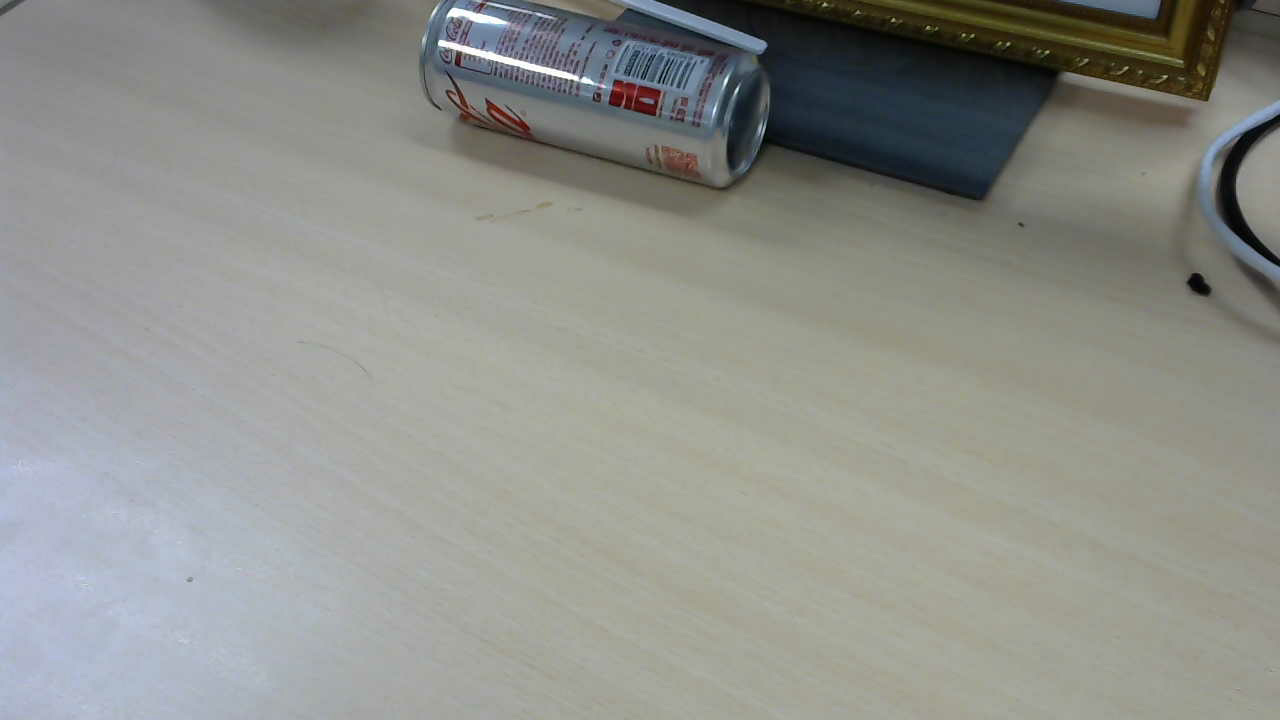Coca_Cola: (422, 4, 780, 197)
